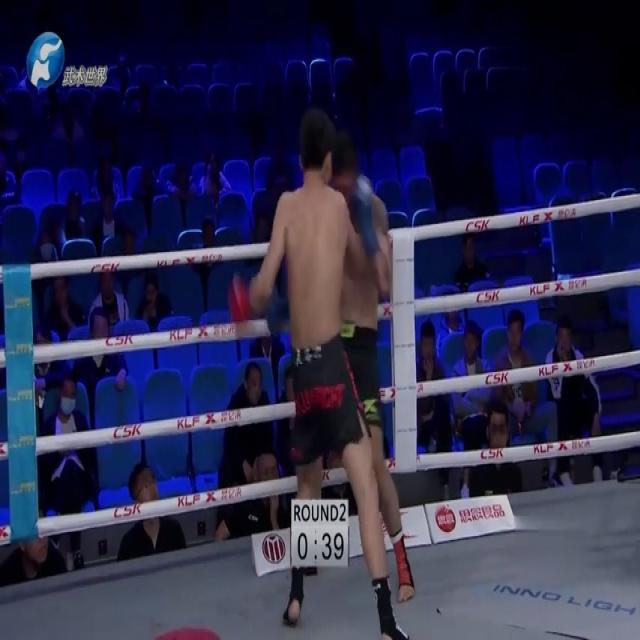fight: (244, 101, 406, 639)
